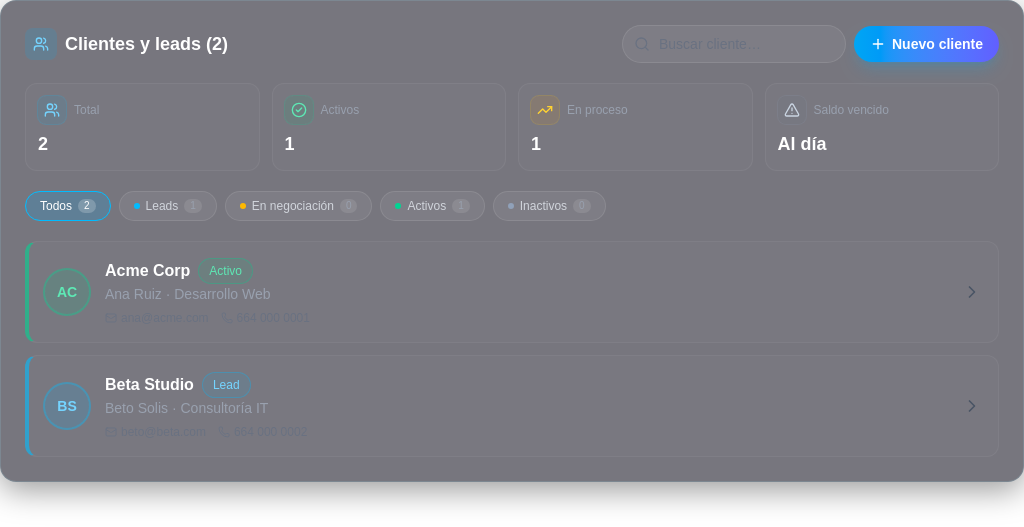
ClientsSection › shows an empty-state message when filter + search match nothing
Type "no existe esta empresa" into the field with placeholder "Buscar cliente…" at (734, 44), box [622,25,846,63]
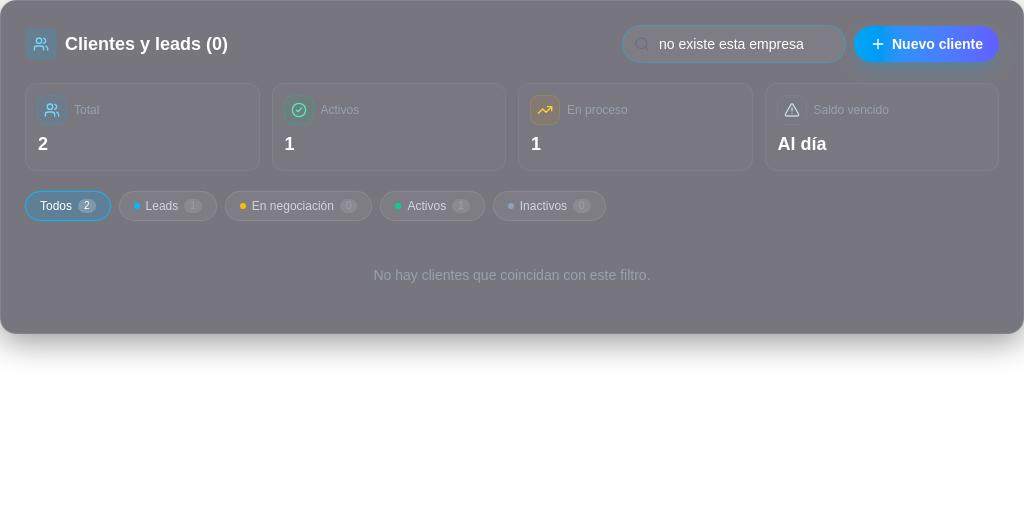
Result: the text "No hay clientes que coincidan con este filtro." is shown at [374,267,650,283]
